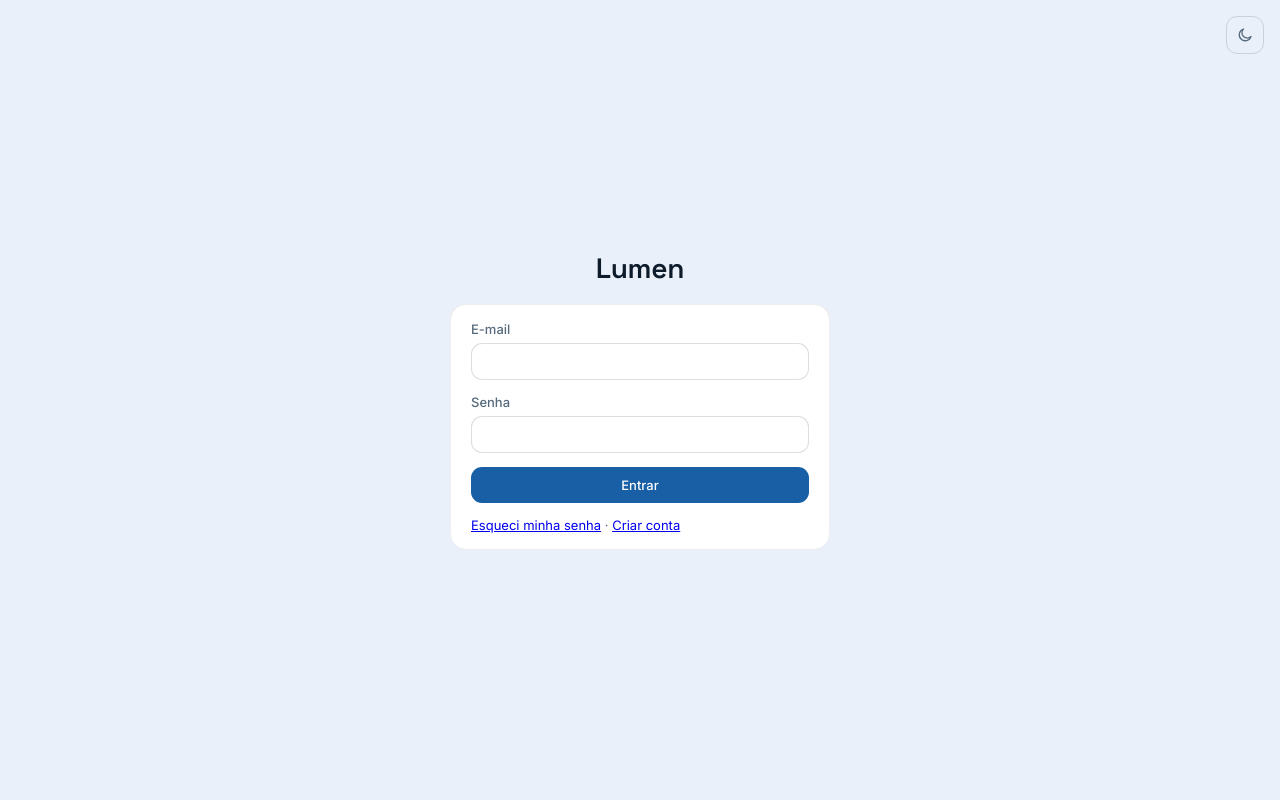
LoginPage › logs in and lands on the protected home
This screenshot has width=1280, height=800.
Type "owner@example.com" into the field labelled "E-mail" at (640,362), box [471,343,809,380]
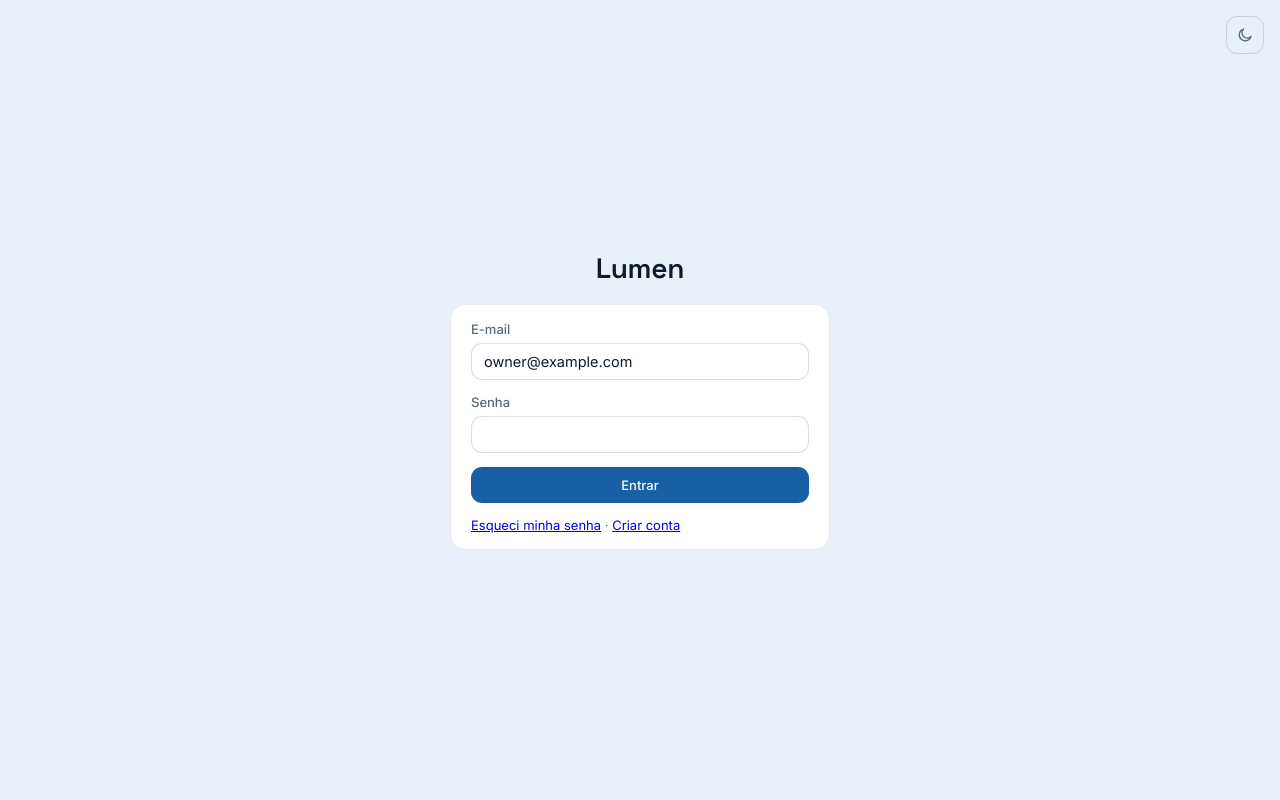
Type "a-strong-pass-9" into the password field labelled "Senha" at (640,434), box [471,416,809,453]
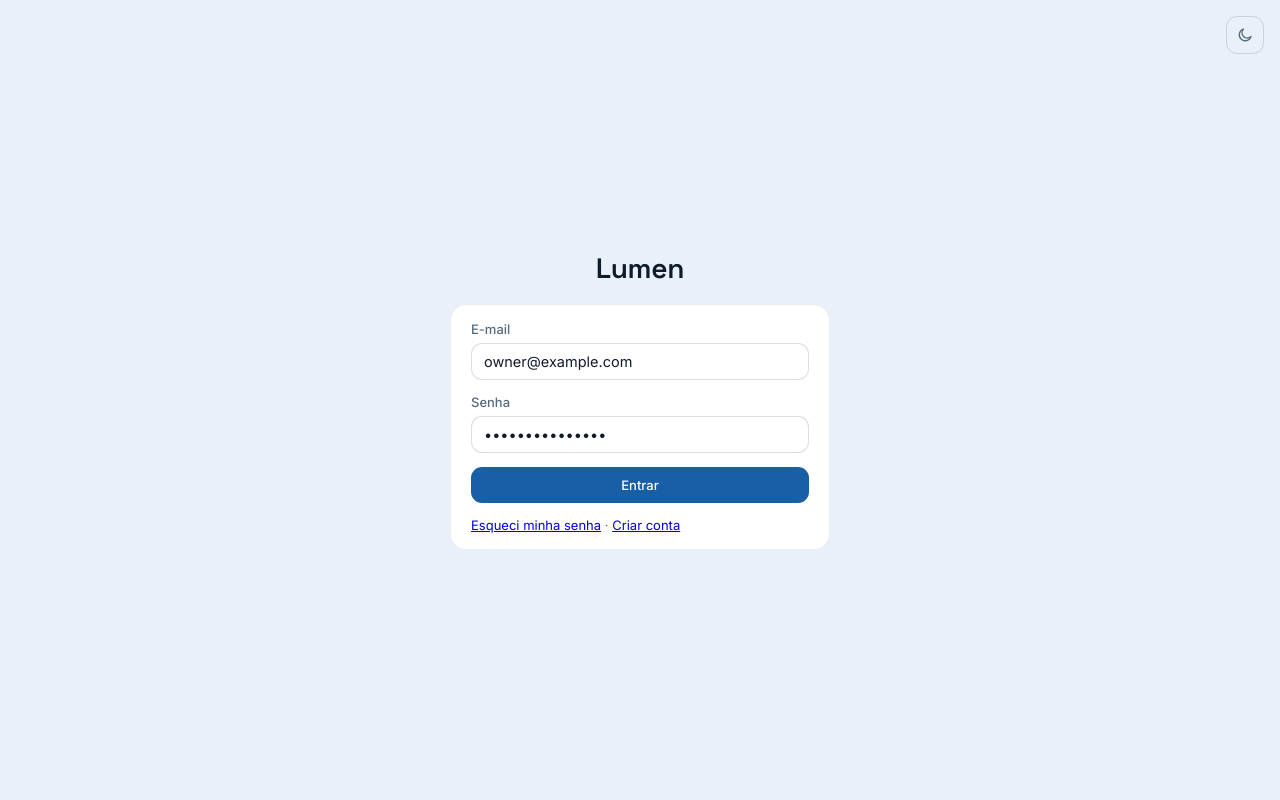
Click the button "Entrar" at (640,485), box [471,467,809,503]
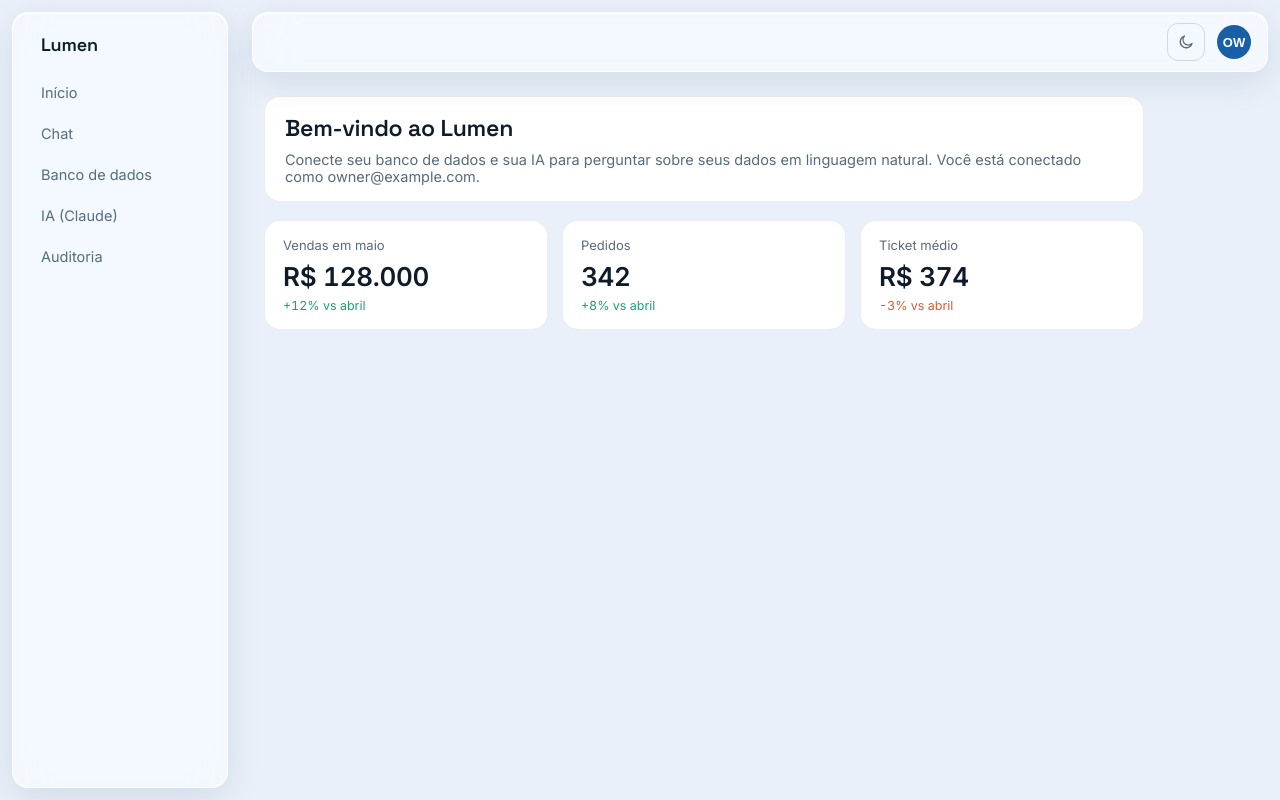
Expected: the heading "Bem-vindo ao Lumen" is shown, [285,113,513,143]
